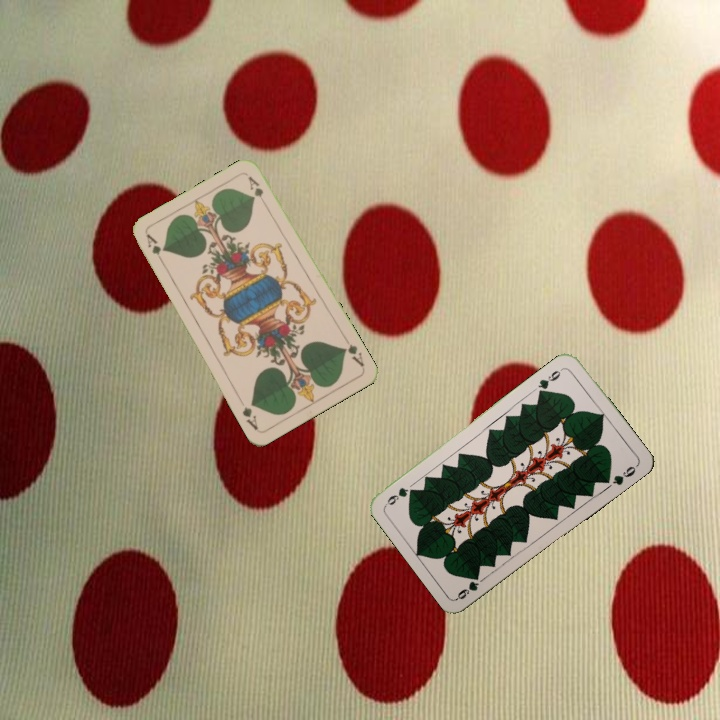G9: (534, 364, 567, 397), (453, 571, 482, 602)
GA: (339, 334, 367, 370), (142, 230, 166, 268)
